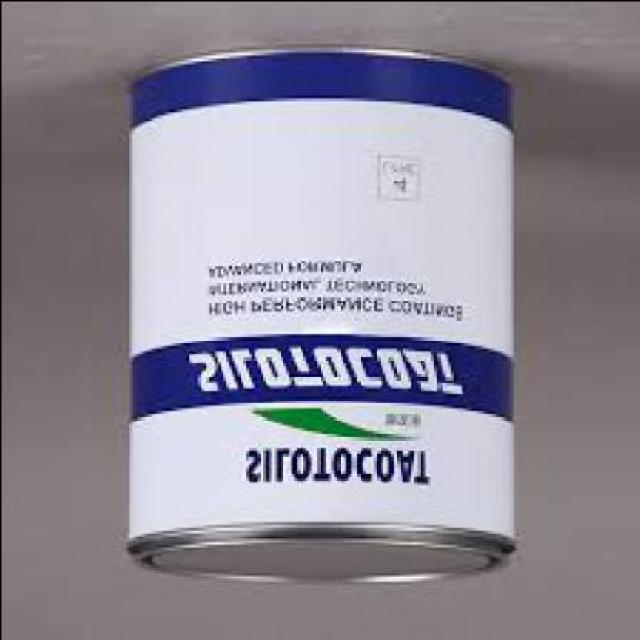METAL: (121, 48, 512, 583)
